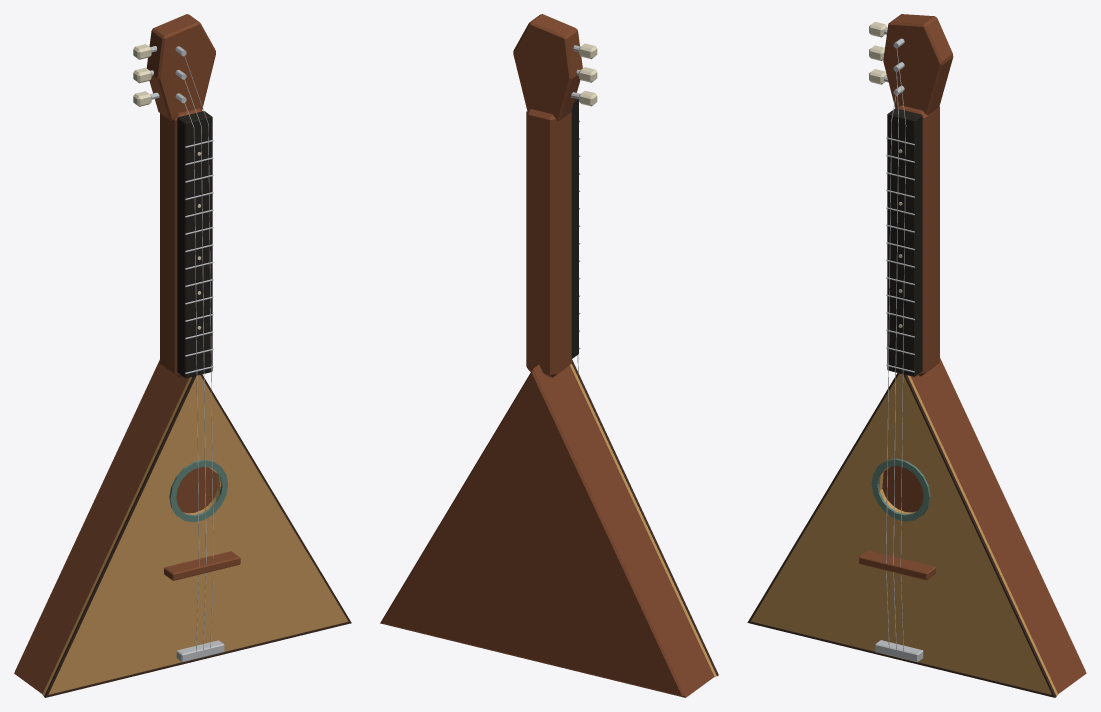
The model's file is full.fbx.
3 views of the same model, side by side, from view 1: azimuth 30°, elevation 25°; view 2: azimuth 150°, elevation 25°; view 3: azimuth 330°, elevation 25° (orthographic).
Visible parts, largest first — view 1: Triangular soundboard with real soundhole, Hollow triangular body sides, Dark fingerboard, Asymmetric paddle headstock, Long narrow neck, Front perimeter binding, Closed triangular back, Plain soundhole annular surround, Raised bridge, Continuous string 1, Continuous string 2, Continuous string 0 (+1 smaller); view 2: Closed triangular back, Hollow triangular body sides, Long narrow neck, Asymmetric paddle headstock, Dark fingerboard, Triangular soundboard with real soundhole, Front perimeter binding; view 3: Triangular soundboard with real soundhole, Hollow triangular body sides, Dark fingerboard, Asymmetric paddle headstock, Long narrow neck, Front perimeter binding, Closed triangular back, Plain soundhole annular surround, Raised bridge, Continuous string 1, Continuous string 2, Continuous string 0 (+1 smaller).
Boxes of the visible parts, x1,y1,x2,y2 form: Triangular soundboard with real soundhole: (42,375,348,695); Hollow triangular body sides: (14,360,189,693); Dark fingerboard: (177,111,212,378); Asymmetric paddle headstock: (146,14,215,120); Long narrow neck: (160,108,202,377); Front perimeter binding: (44,374,351,697); Closed triangular back: (15,363,217,670); Plain soundhole annular surround: (169,459,227,522); Raised bridge: (164,551,240,580); Continuous string 1: (184,79,206,649); Continuous string 2: (184,56,213,648); Continuous string 0: (184,101,199,651); Closed triangular back: (381,370,684,696); Hollow triangular body sides: (380,364,714,697); Long narrow neck: (526,109,571,377); Asymmetric paddle headstock: (513,14,582,121); Dark fingerboard: (571,98,578,358); Triangular soundboard with real soundhole: (569,363,716,677); Front perimeter binding: (571,359,718,676); Triangular soundboard with real soundhole: (751,373,1058,695); Hollow triangular body sides: (910,358,1086,693); Dark fingerboard: (887,108,922,376); Asymmetric paddle headstock: (883,14,953,115); Long narrow neck: (897,105,939,376); Front perimeter binding: (747,373,1056,697); Closed triangular back: (882,358,1085,670); Plain soundhole annular surround: (871,458,930,521); Raised bridge: (859,550,935,580); Continuous string 1: (893,72,898,649); Continuous string 2: (896,48,906,651); Continuous string 0: (886,94,896,647).
Size of the model in its own units: 34.1 by 66.7 by 8.
